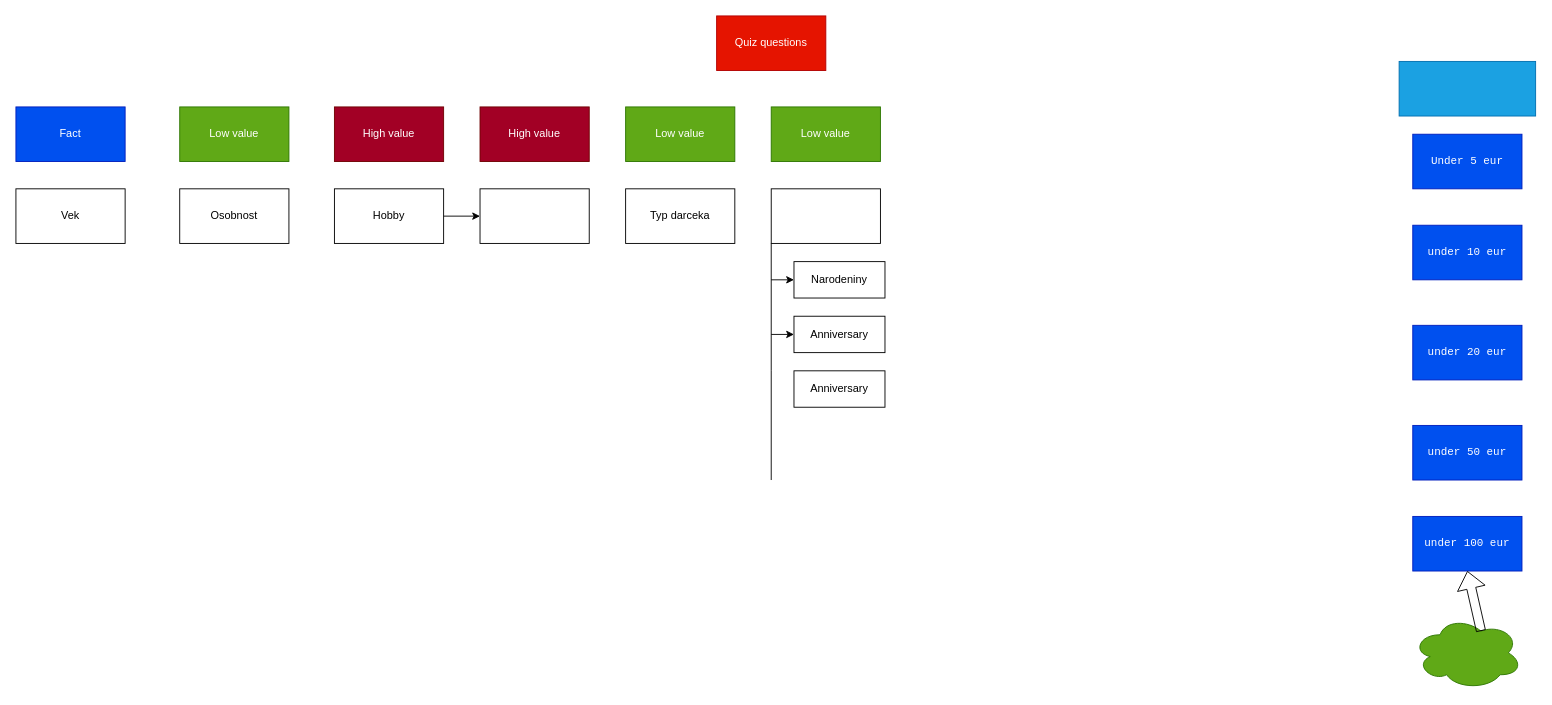
Image size: 1552x705. Some labels were removed from this diagram. Here are the shapes that lost their labels. From the top down, the box of each, then its label:
(1398, 61, 1536, 116): Recommendations
(479, 188, 589, 243): Rozvinuta otazka na hobby
(770, 188, 880, 243): Ku akej prilezitosti
(1412, 616, 1522, 689): Optional
